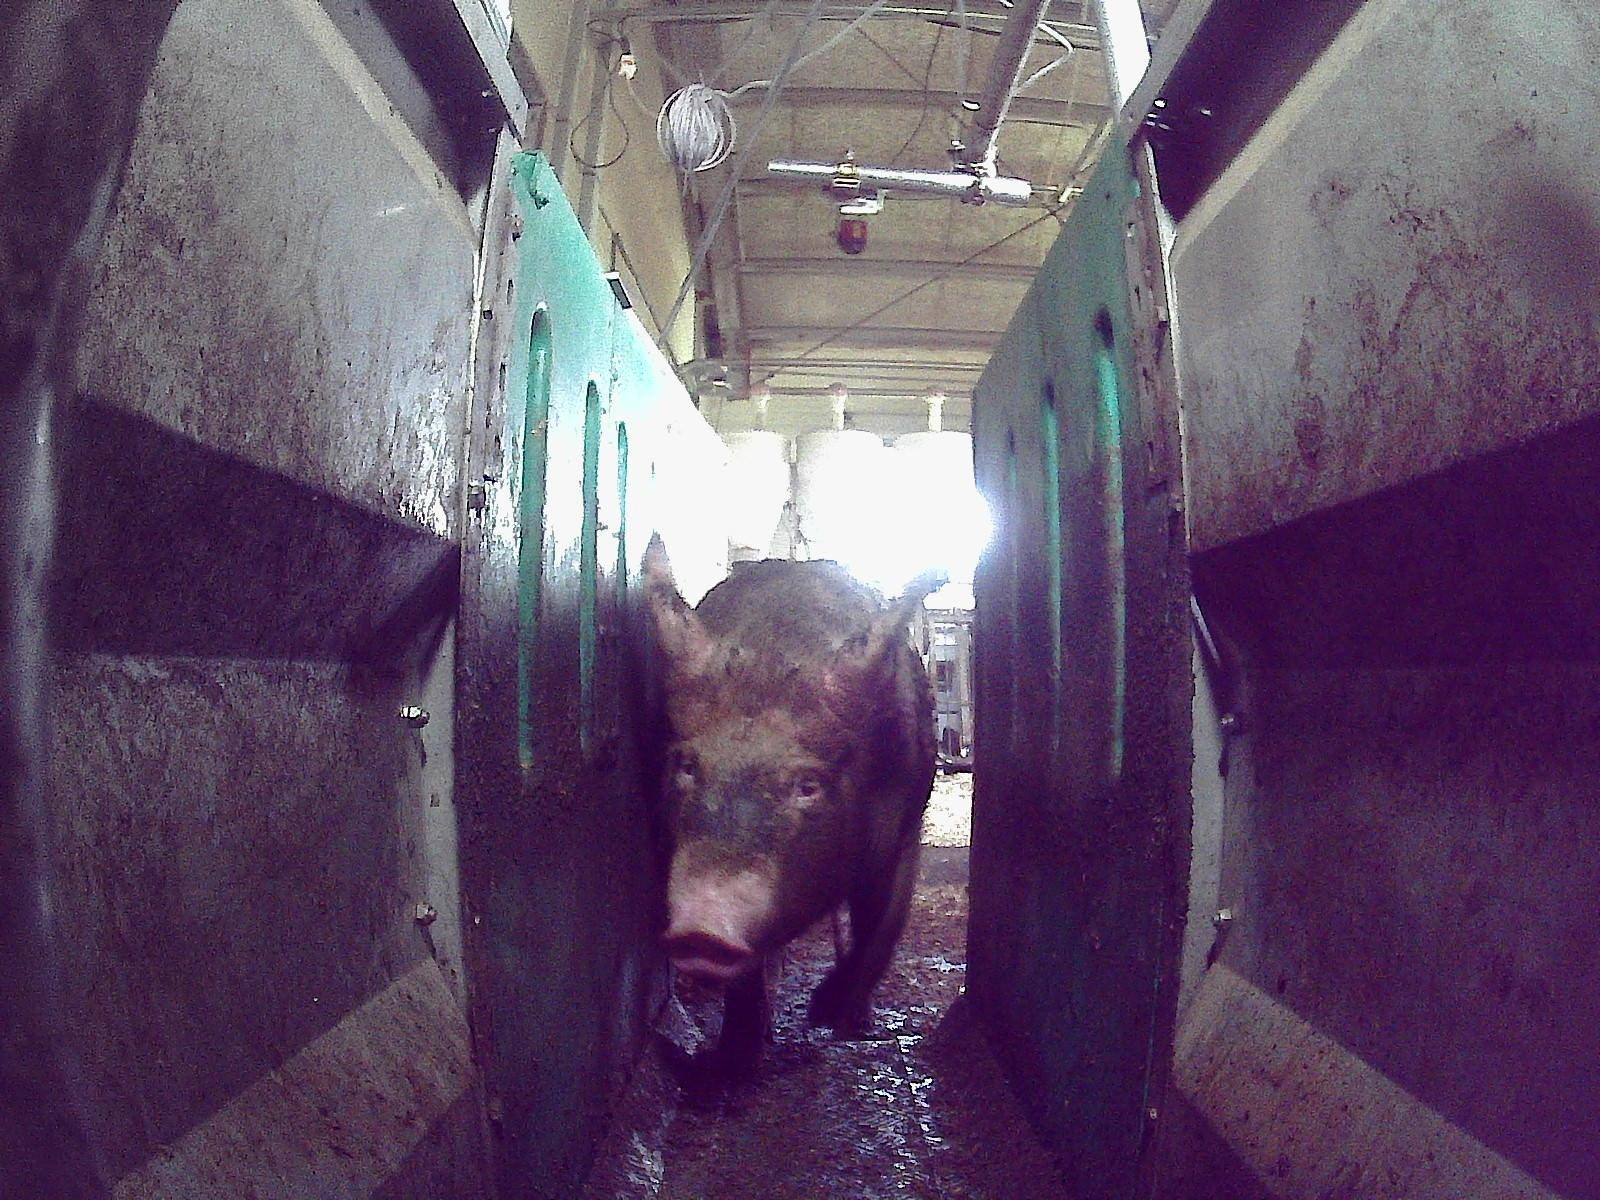Face: (658, 675, 859, 976)
